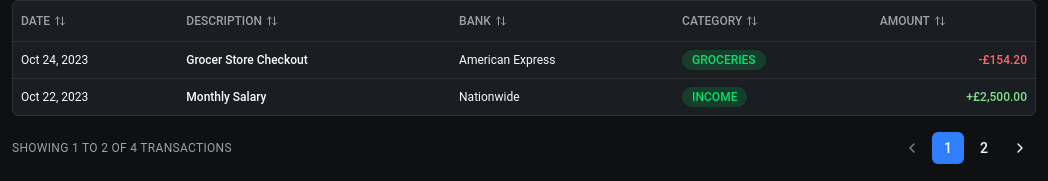
Scenario: TransactionTable › navigates to next page when next button is clicked
This screenshot has width=1048, height=181.
Check: the text "Showing 1 to 2 of 4 transactions" is shown, box left=12, top=140, right=232, bottom=156
Click the button named "next page". click: (1020, 148)
box: left=1004, top=132, right=1036, bottom=164
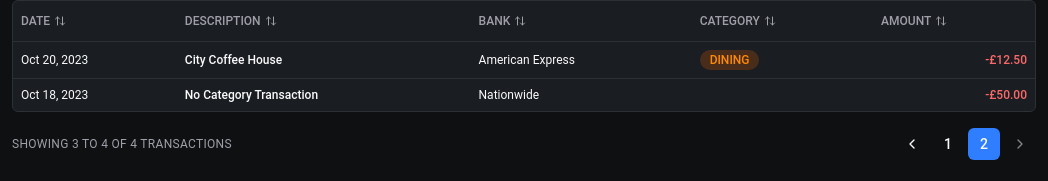
Check: the text "Showing 3 to 4 of 4 transactions" is shown, box left=12, top=136, right=232, bottom=152
